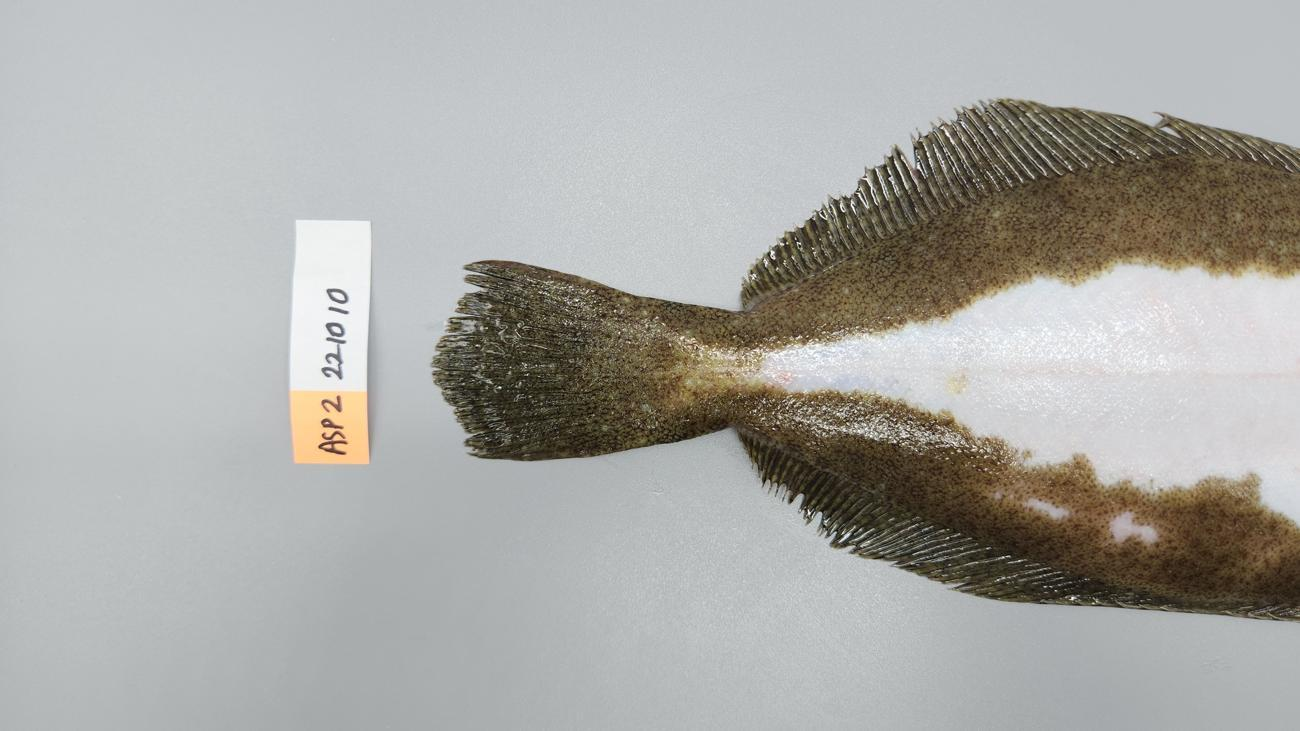SPDYH: (910, 451, 1299, 605)
